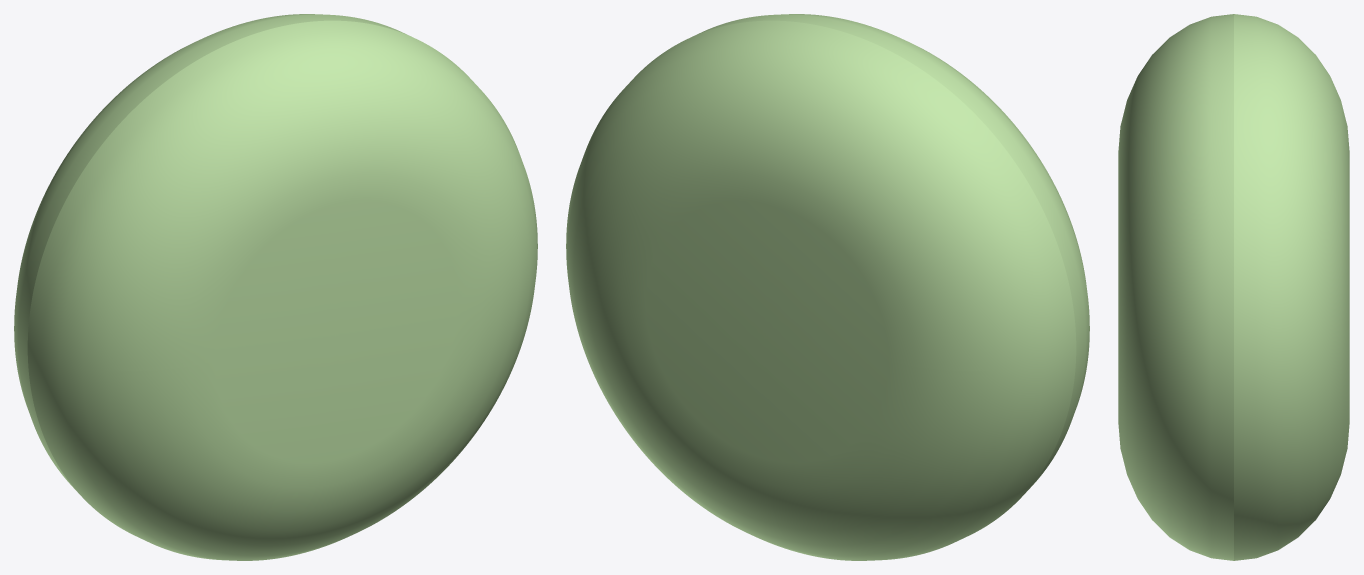
File: roundWhite.gltf
3 views of the same model, side by side, from view 1: azimuth 30°, elevation 25°; view 2: azimuth 150°, elevation 25°; view 3: azimuth 270°, elevation 25° (orthographic). The views are drawn at different scales.
Bounding box in the file's own units: 0.3184 × 0.3184 × 0.1348.
